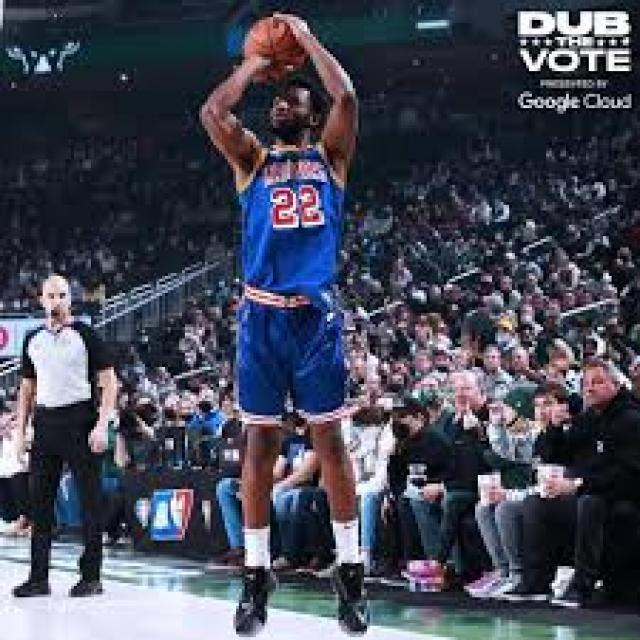rim: (248, 20, 304, 74)
